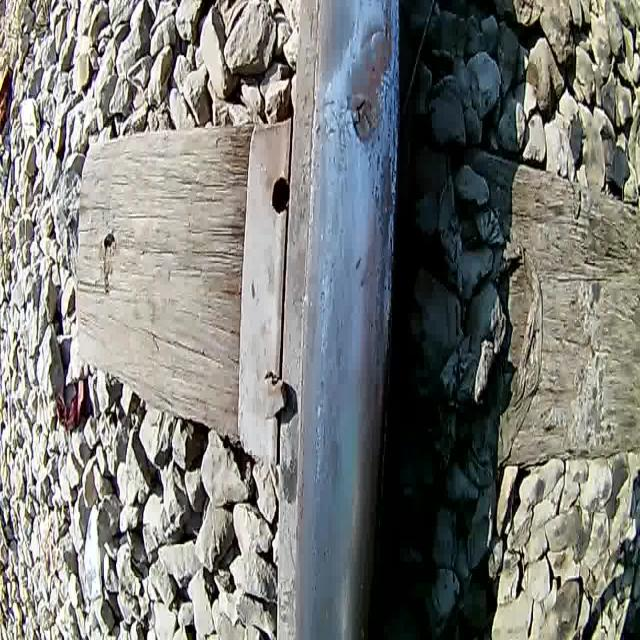Cracks: (351, 94, 374, 142)
Squats: (343, 0, 396, 150)
